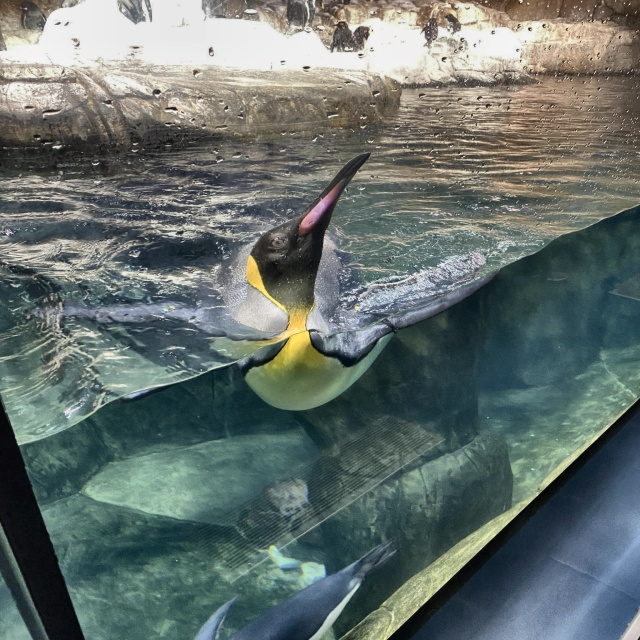penguin: (196, 152, 396, 411)
